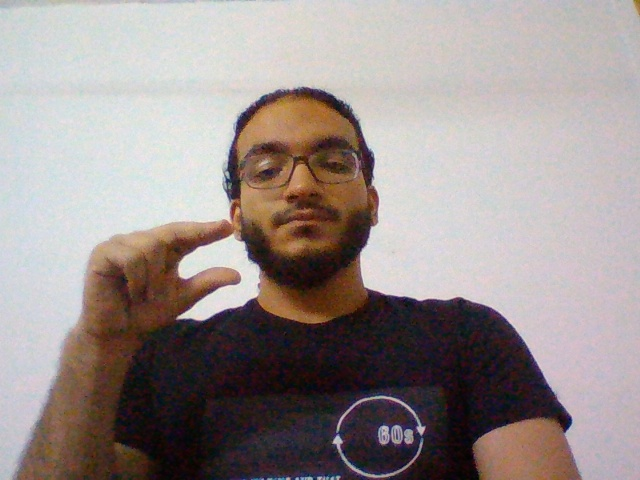No: (61, 214, 249, 329)
